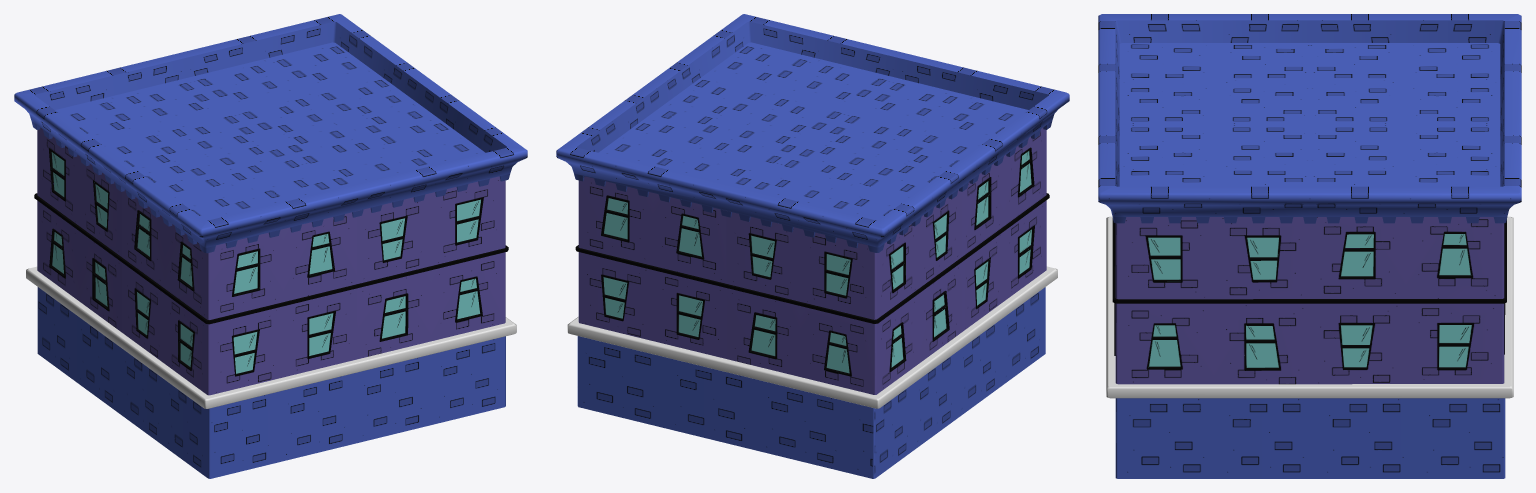
The model's file is 4x2w_Building.fbx.
3 views of the same model, side by side, from view 1: azimuth 30°, elevation 25°; view 2: azimuth 150°, elevation 25°; view 3: azimuth 270°, elevation 25° (orthographic). The views are drawn at different scales.
Visible parts, largest first — view 1: roof006, 2x006, ground floor004, bar004; view 2: roof006, 2x006, ground floor004, bar004; view 3: roof006, 2x006, ground floor004, bar004.
Part boxes in pixels (left/top/right/bottom): roof006: left=14, top=14, right=527, bottom=253; 2x006: left=34, top=127, right=508, bottom=395; ground floor004: left=37, top=287, right=505, bottom=478; bar004: left=26, top=266, right=516, bottom=408; roof006: left=556, top=14, right=1069, bottom=252; 2x006: left=575, top=127, right=1049, bottom=394; ground floor004: left=577, top=287, right=1045, bottom=478; bar004: left=567, top=266, right=1057, bottom=408; roof006: left=1098, top=14, right=1521, bottom=223; 2x006: left=1112, top=217, right=1506, bottom=384; ground floor004: left=1115, top=398, right=1505, bottom=478; bar004: left=1106, top=216, right=1513, bottom=398.
Bounding box in the file's own units: 10.9 × 8.23 × 10.78.
